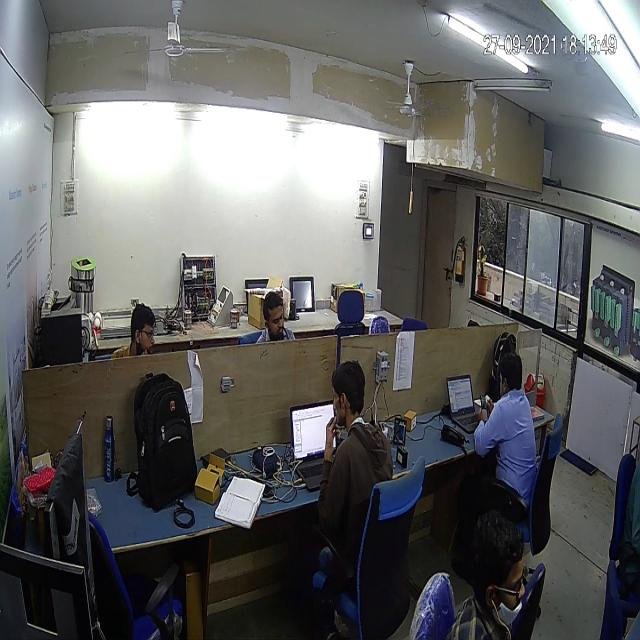adult: (307, 349, 405, 625), (472, 338, 548, 580)
